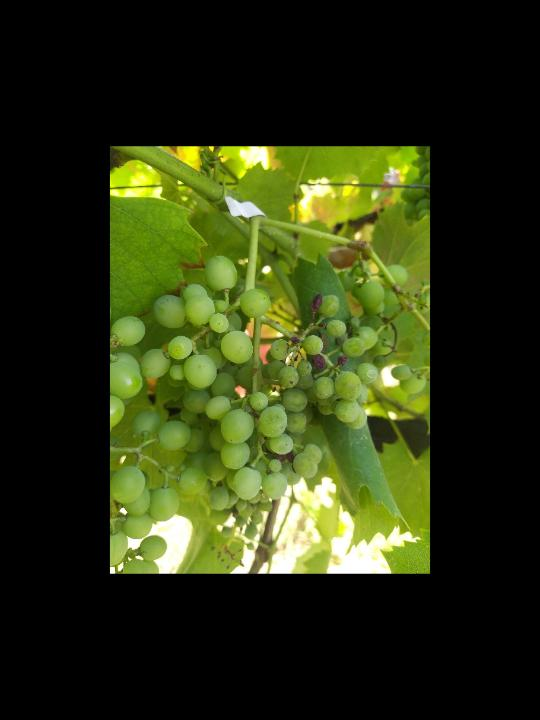grape: (151, 252, 382, 513)
